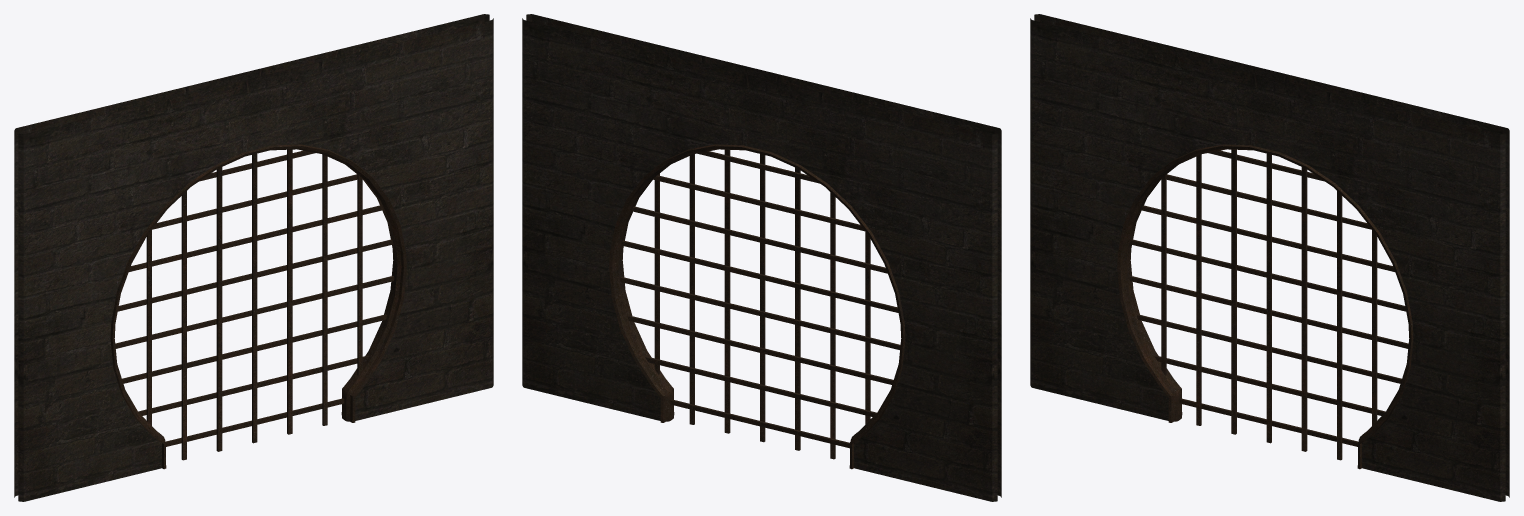
The model's file is wall_1_tunnel_hole_2.obj.
3 views of the same model, side by side, from view 1: azimuth 30°, elevation 25°; view 2: azimuth 150°, elevation 25°; view 3: azimuth 330°, elevation 25° (orthographic).
Visible parts, largest first — view 1: wall_1_tunnel_hole_2; view 2: wall_1_tunnel_hole_2; view 3: wall_1_tunnel_hole_2.
Boxes of the visible parts, x1,y1,x2,y2 form: wall_1_tunnel_hole_2: (14, 14, 493, 501); wall_1_tunnel_hole_2: (522, 14, 1001, 501); wall_1_tunnel_hole_2: (1030, 14, 1509, 501).
Bounding box in the file's own units: 4.06 × 3 × 0.1697.
